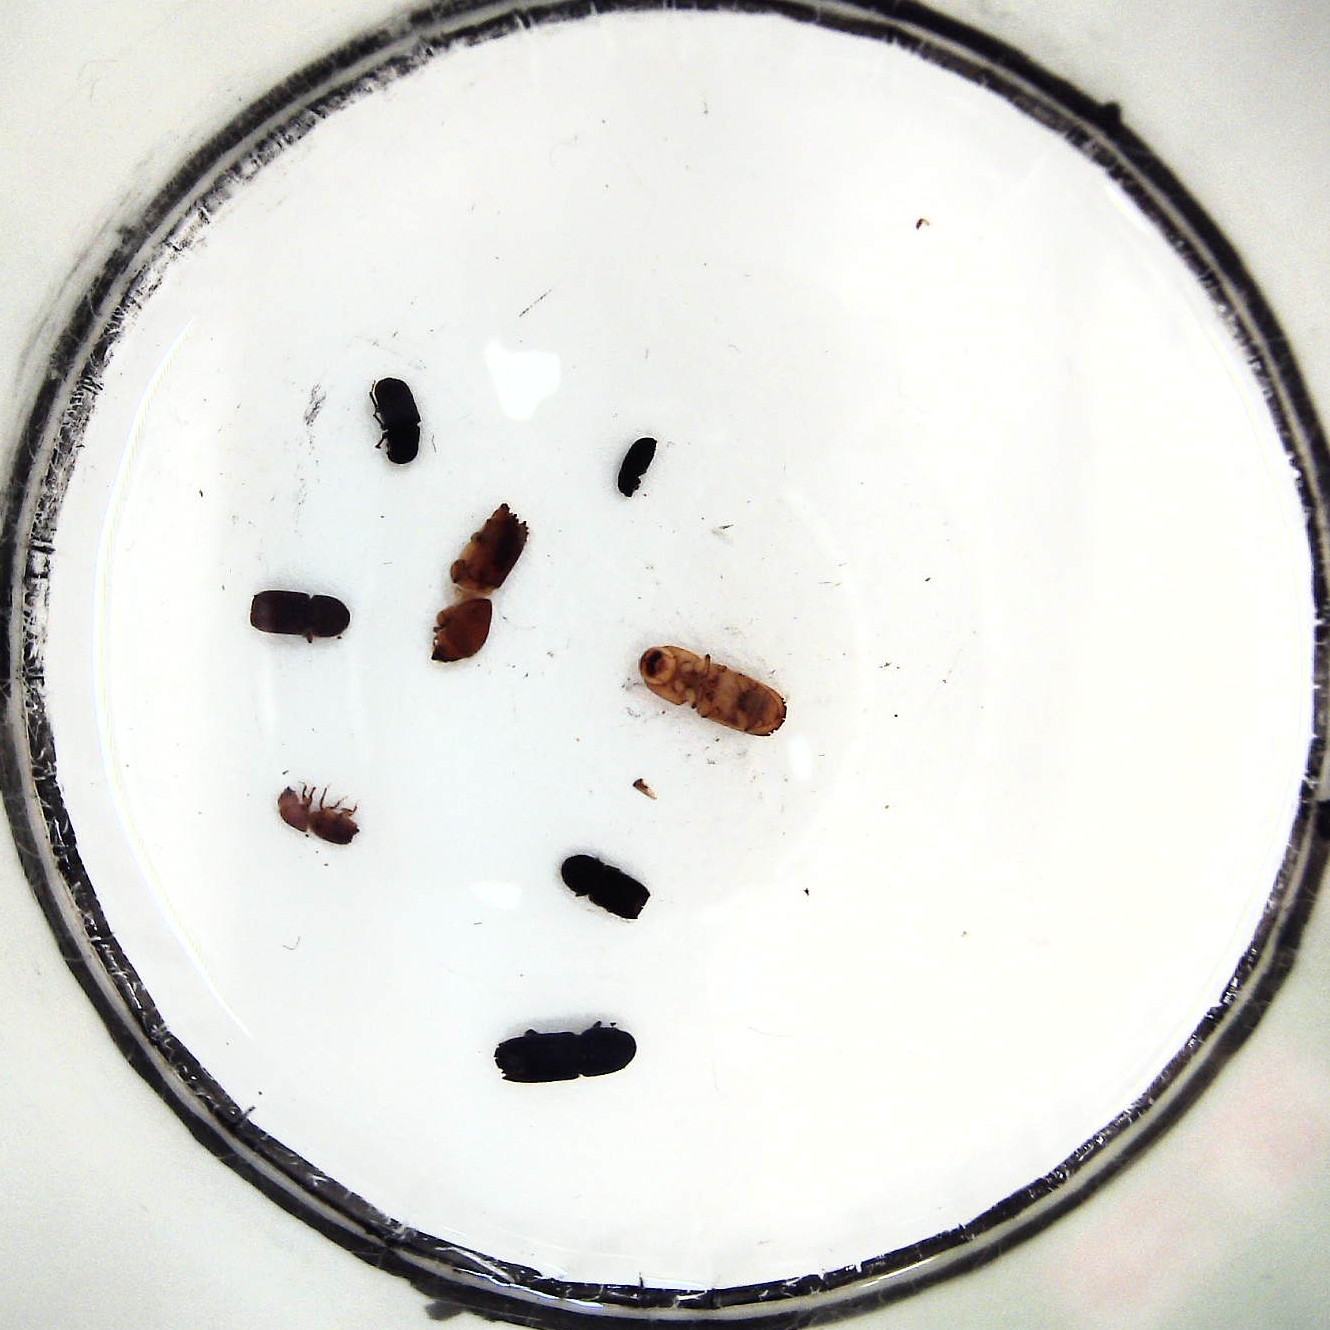Boerner: (420, 503, 530, 667), (639, 639, 792, 741), (491, 1019, 638, 1085)
Linnaeus: (561, 853, 652, 927), (244, 589, 354, 647)
acuminatus: (278, 781, 364, 849)
armandi: (371, 378, 427, 473)
coleoptera: (615, 434, 659, 503)
